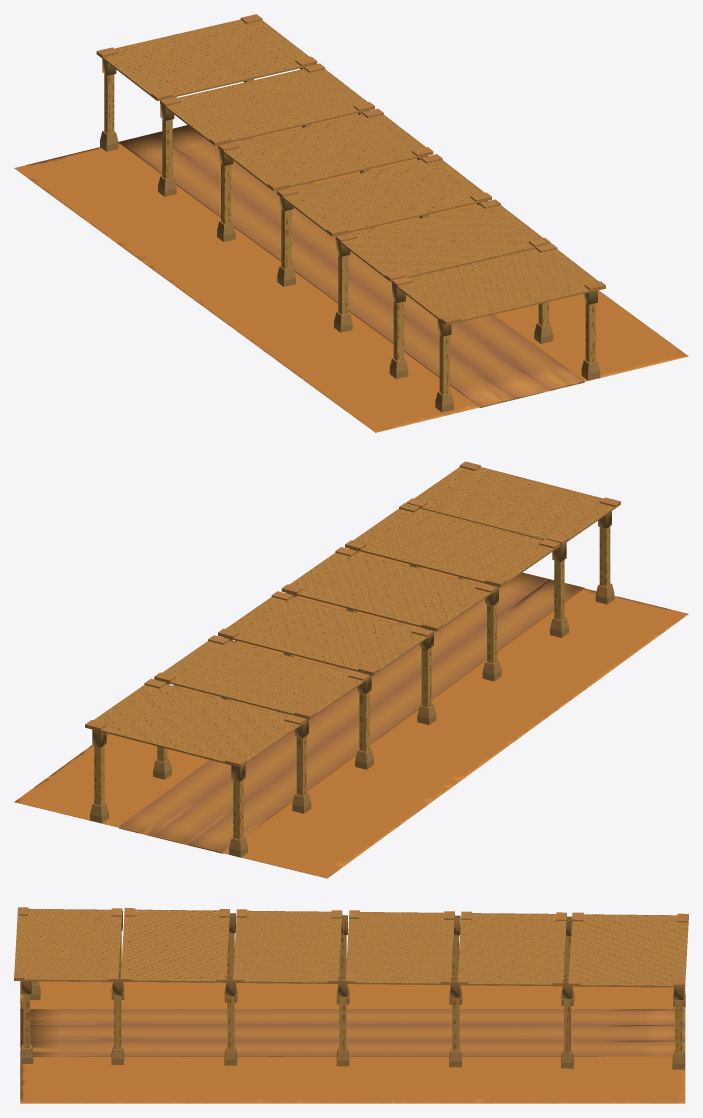
Rendered from tunnlewithroad1.fbx.
3 renders of one model, top to bottom at view 1: azimuth 30°, elevation 25°; view 2: azimuth 150°, elevation 25°; view 3: azimuth 270°, elevation 25°, orthographic. The views are drawn at different scales.
Visible parts, largest first — view 1: road_crossroadPath.005; view 2: road_crossroadPath.005; view 3: road_crossroadPath.005.
Part boxes in pixels (left/top/right/bottom): road_crossroadPath.005: left=14, top=14, right=688, bottom=432; road_crossroadPath.005: left=14, top=461, right=688, bottom=878; road_crossroadPath.005: left=14, top=907, right=688, bottom=1103.
Size of the model in its own units: 2701 by 788 by 5482.
